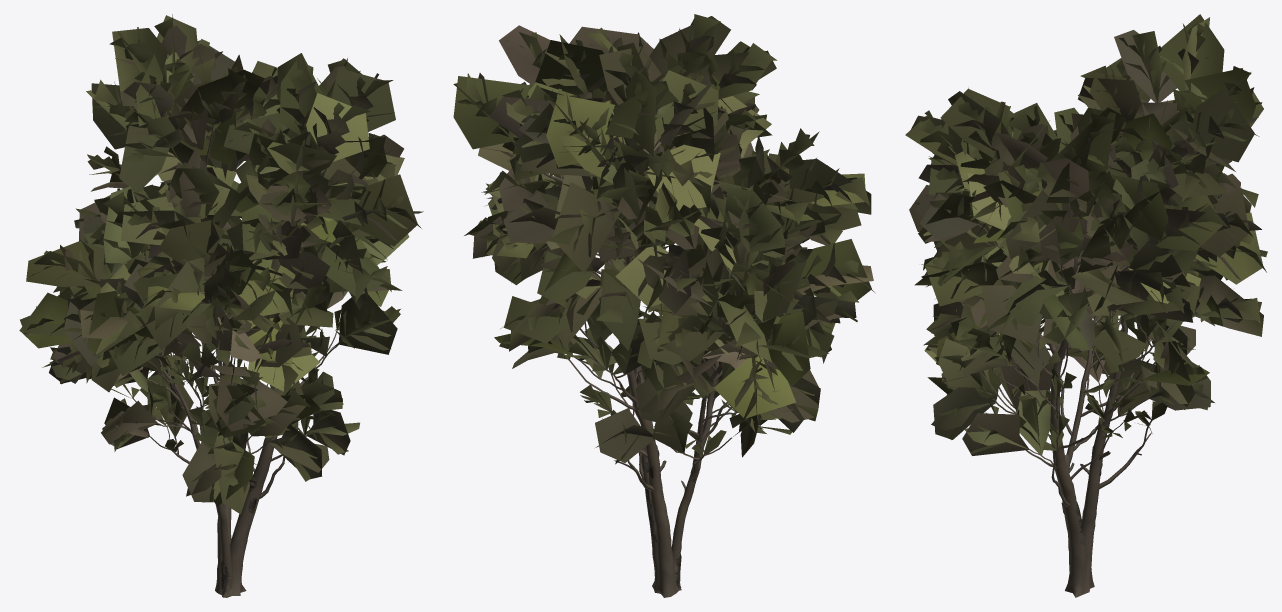
The model's file is SM_BlackAlder_Field_03_PP_LOD4.gltf.
The picture shows the model from 3 angles, left to right: view 1: azimuth 30°, elevation 25°; view 2: azimuth 150°, elevation 25°; view 3: azimuth 270°, elevation 25°; orthographic projection. The views are drawn at different scales.
Parts seen in each view (by area): view 1: SM_BlackAlder_Field_03_PP; view 2: SM_BlackAlder_Field_03_PP; view 3: SM_BlackAlder_Field_03_PP.
Part boxes in pixels (x1=…): SM_BlackAlder_Field_03_PP: x1=19, y1=14, x2=423, y2=597; SM_BlackAlder_Field_03_PP: x1=453, y1=14, x2=875, y2=597; SM_BlackAlder_Field_03_PP: x1=905, y1=14, x2=1267, y2=597.
Bounding box in the file's own units: 11.51 × 16.61 × 9.92.
Materials: 3 (3 with a texture image).
